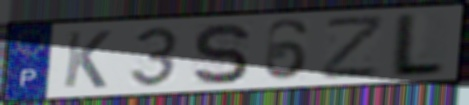3: (124, 24, 183, 89)
6: (262, 17, 312, 84)
K: (60, 29, 113, 90)
L: (385, 10, 449, 79)
S: (190, 21, 252, 87)
Z: (320, 13, 389, 82)
